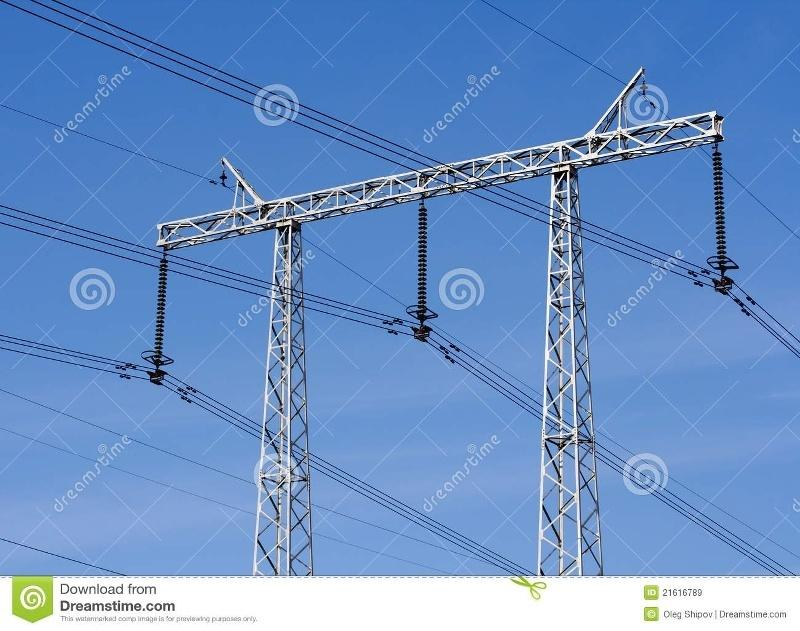power_tower: (106, 115, 725, 568)
